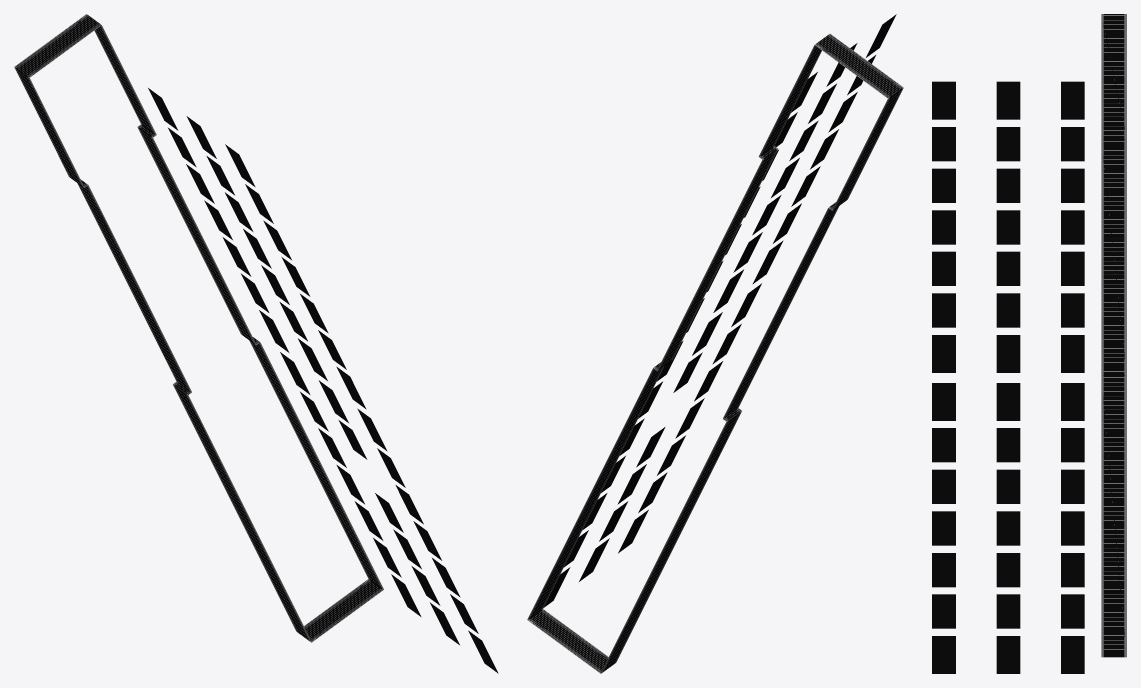
Rendered from _0BUILDING_COMMENTATORBOX_SUB2_Scene.028.obj.
The picture shows the model from 3 angles, left to right: view 1: azimuth 30°, elevation 25°; view 2: azimuth 150°, elevation 25°; view 3: azimuth 270°, elevation 25°; orthographic projection. The views are drawn at different scales.
Parts seen in each view (by area): view 1: _0BUILDING_COMMENTATORBOX_SUB2_Scene.028; view 2: _0BUILDING_COMMENTATORBOX_SUB2_Scene.028; view 3: _0BUILDING_COMMENTATORBOX_SUB2_Scene.028.
Boxes of the visible parts, x1,y1,x2,y2 form: _0BUILDING_COMMENTATORBOX_SUB2_Scene.028: (14,14,498,673); _0BUILDING_COMMENTATORBOX_SUB2_Scene.028: (527,14,903,673); _0BUILDING_COMMENTATORBOX_SUB2_Scene.028: (932,14,1126,673).
Bounding box in the file's own units: 18.21 × 31.61 × 9.99.
